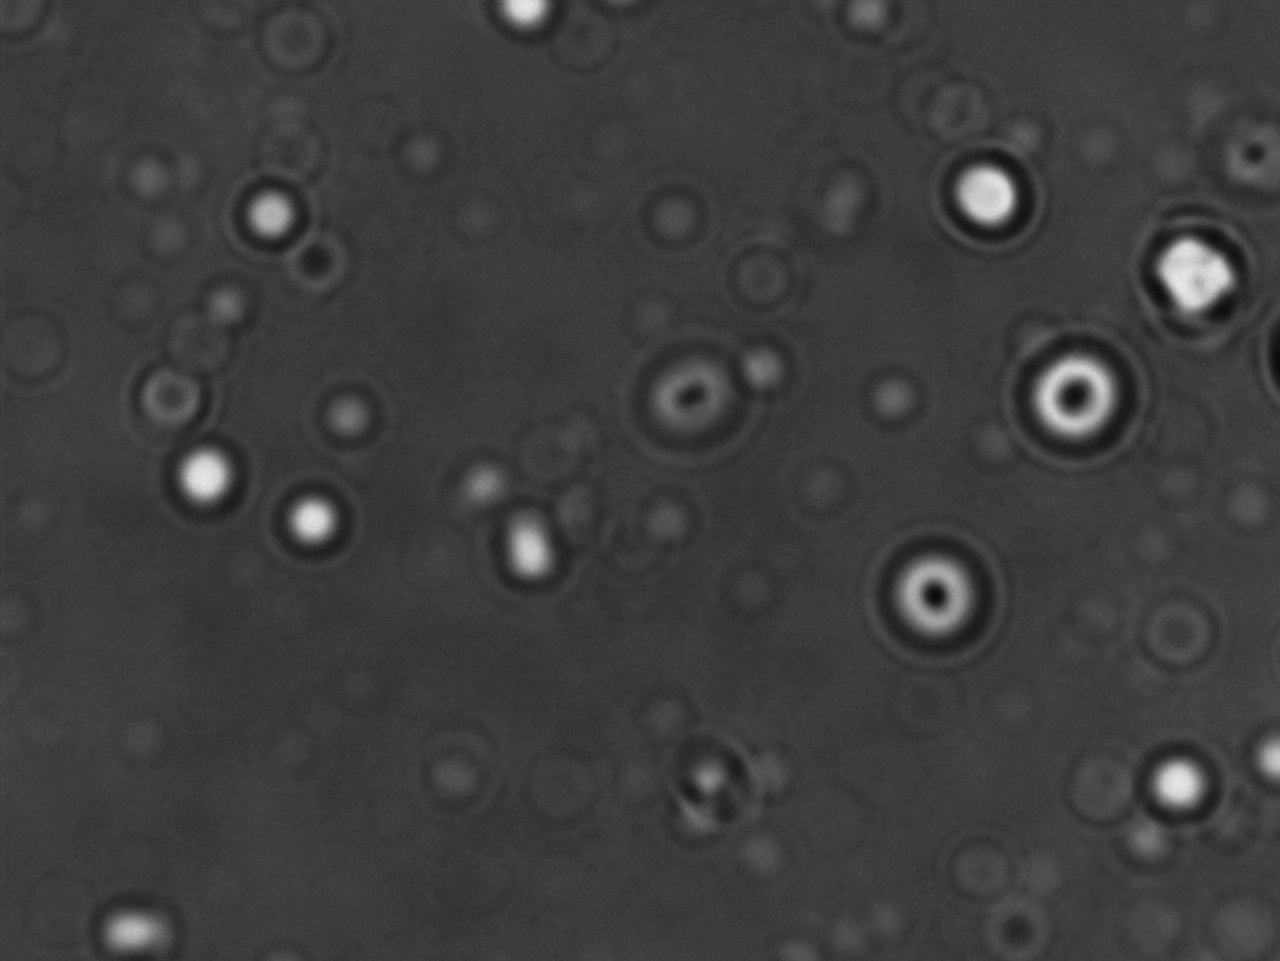depth:16: (862, 525, 1015, 667), (1005, 326, 1147, 463)
